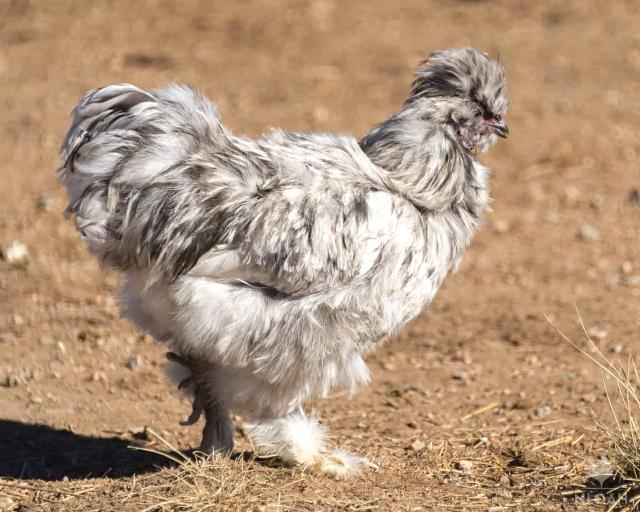Chicken: (57, 45, 510, 472)
